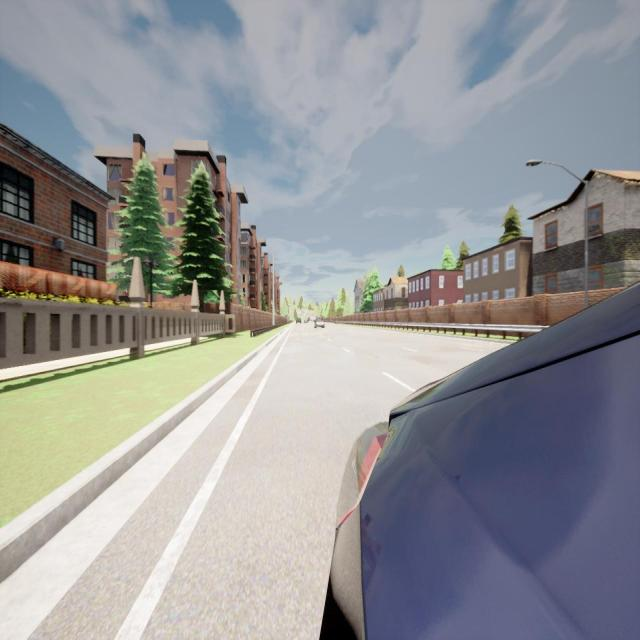Vehicle: (331, 283, 639, 638), (313, 318, 325, 329), (296, 318, 302, 324), (304, 320, 308, 323)
